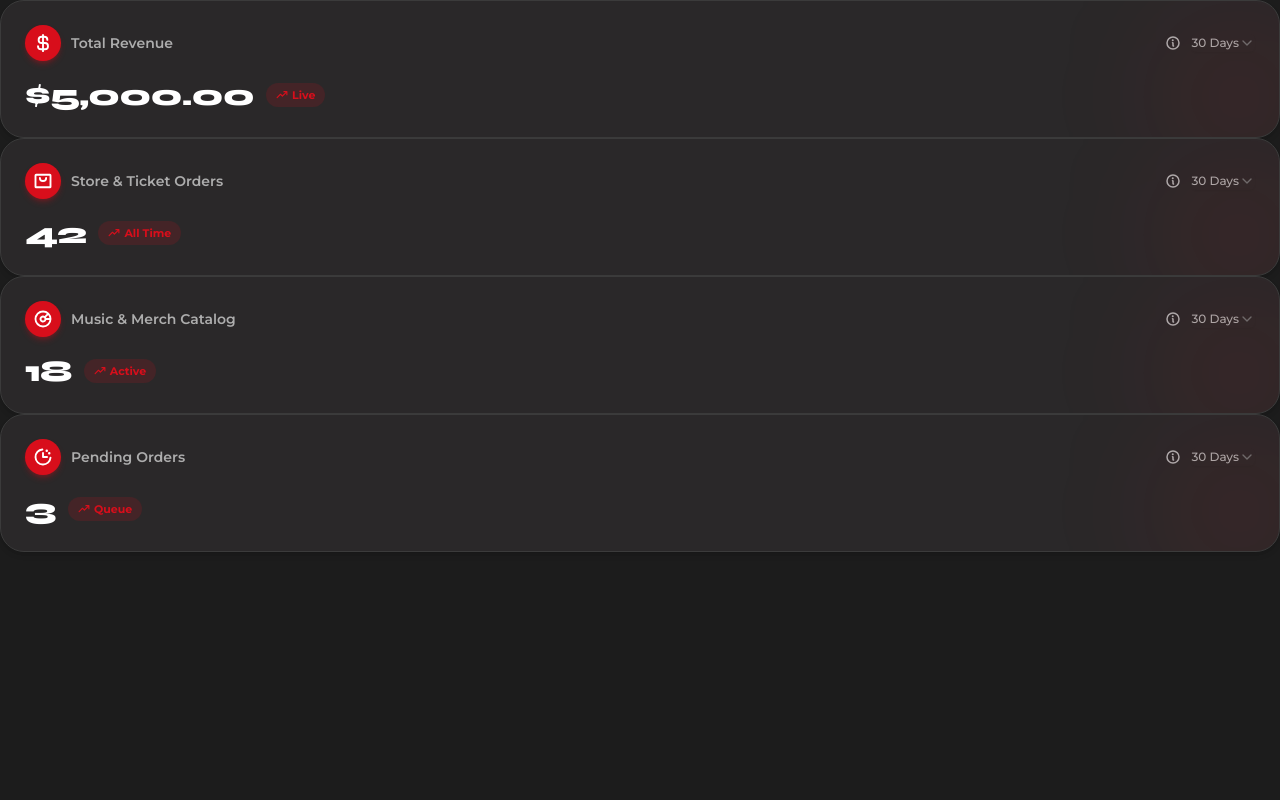
Scenario: Dashboard Analytics Widgets › renders all KPI stat widgets with info popovers
Expected: the heading "$5,000.00" is shown, [25,77,254,113]
Expected: the heading "42" is shown, [25,215,86,251]
Click the button named "About Total Revenue". click: (1173, 43)
box: [1161,31,1185,55]
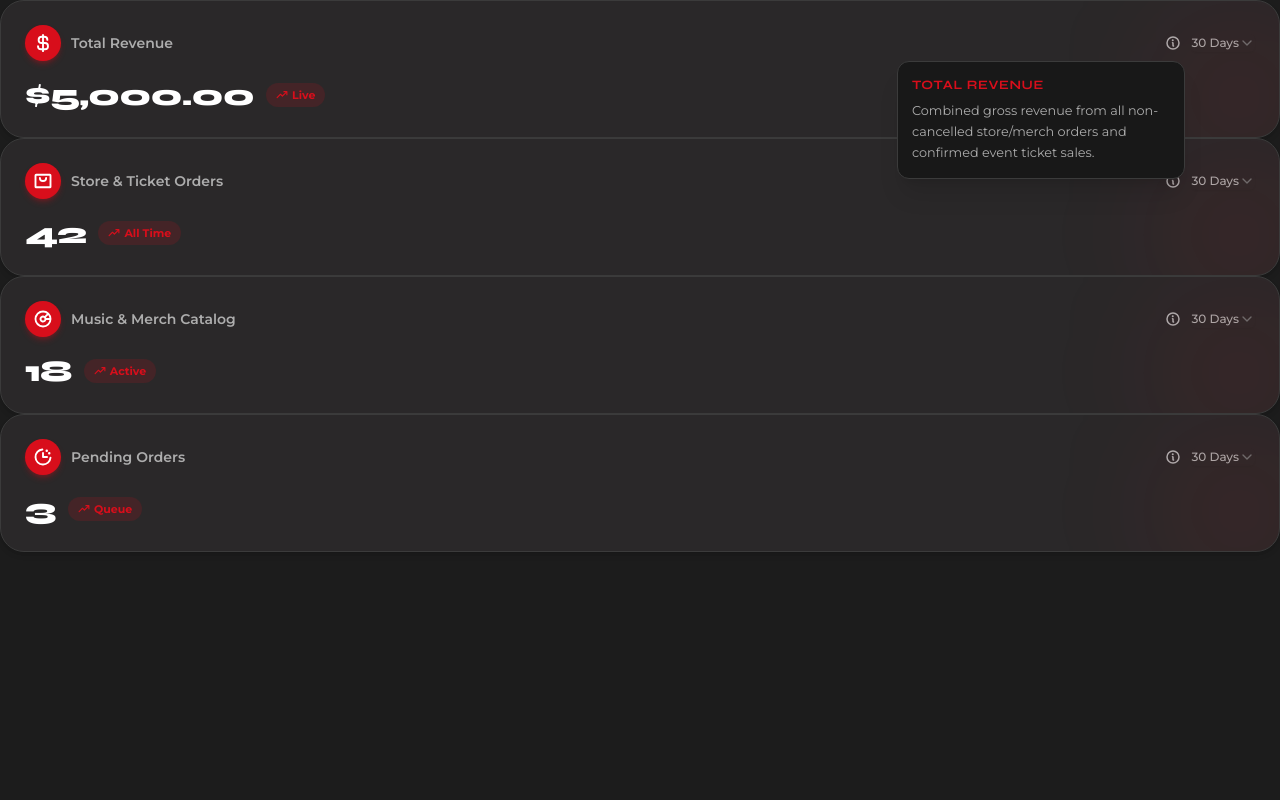
Now the text "Combined gross revenue" is shown, box [912,103,1158,160]
